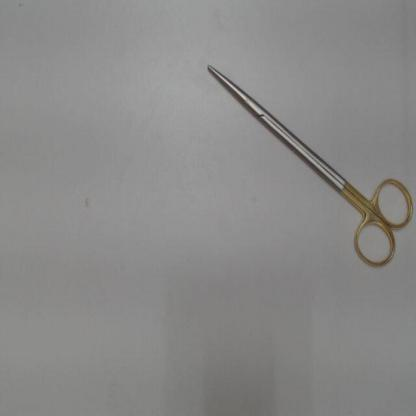7 Metzenbaum Scissors: (206, 62, 416, 274)
